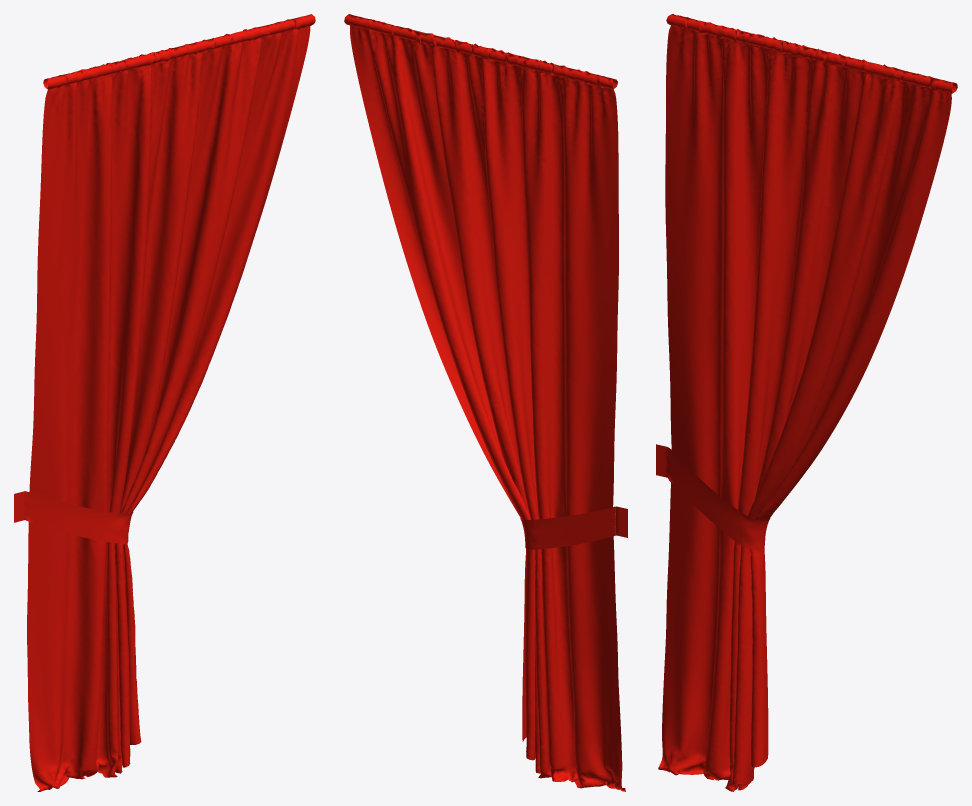
Rendered from cortina.glb.
The picture shows the model from 3 angles, left to right: view 1: azimuth 30°, elevation 25°; view 2: azimuth 150°, elevation 25°; view 3: azimuth 330°, elevation 25°; orthographic projection. The views are drawn at different scales.
Parts seen in each view (by area): view 1: sht2s; view 2: sht2s; view 3: sht2s.
Boxes of the visible parts, x1=… form: sht2s: x1=14, y1=14, x2=315, y2=791; sht2s: x1=344, y1=14, x2=627, y2=791; sht2s: x1=656, y1=14, x2=957, y2=791.
Size of the model in its own units: 1.6 by 3.74 by 0.2076.
